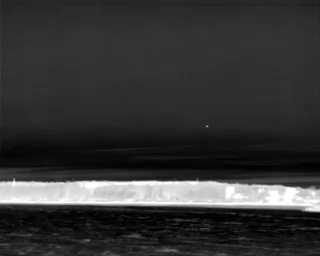HELICOPTER: (204, 122, 211, 130)
